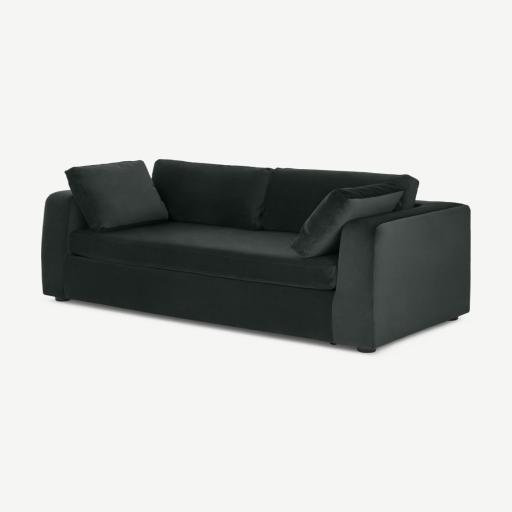back_cushion: (66, 159, 419, 243)
base: (64, 256, 334, 342)
left_arm: (333, 203, 470, 348)
right_arm: (41, 191, 86, 300)
seat_cushion: (71, 221, 337, 290)
two-seater: (0, 0, 511, 512)
